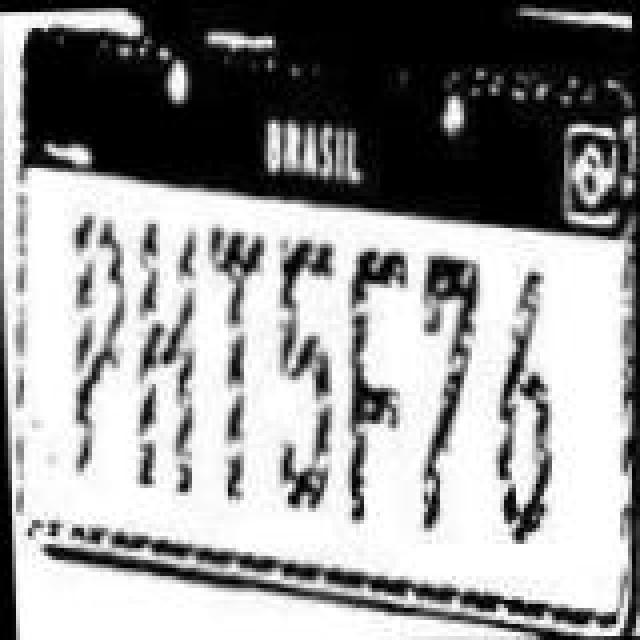5: (268, 214, 356, 526)
6: (480, 246, 568, 546)
7: (400, 234, 488, 538)
F: (334, 226, 418, 534)
H: (128, 190, 216, 518)
P: (44, 194, 136, 494)
T: (204, 198, 284, 514)
